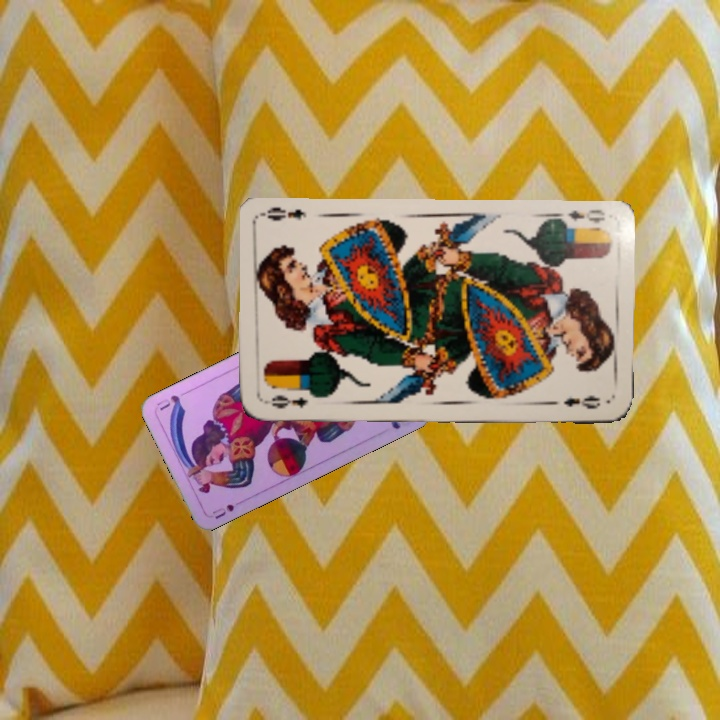EO: (552, 206, 607, 232), (261, 390, 311, 411)
SU: (208, 496, 245, 521)
